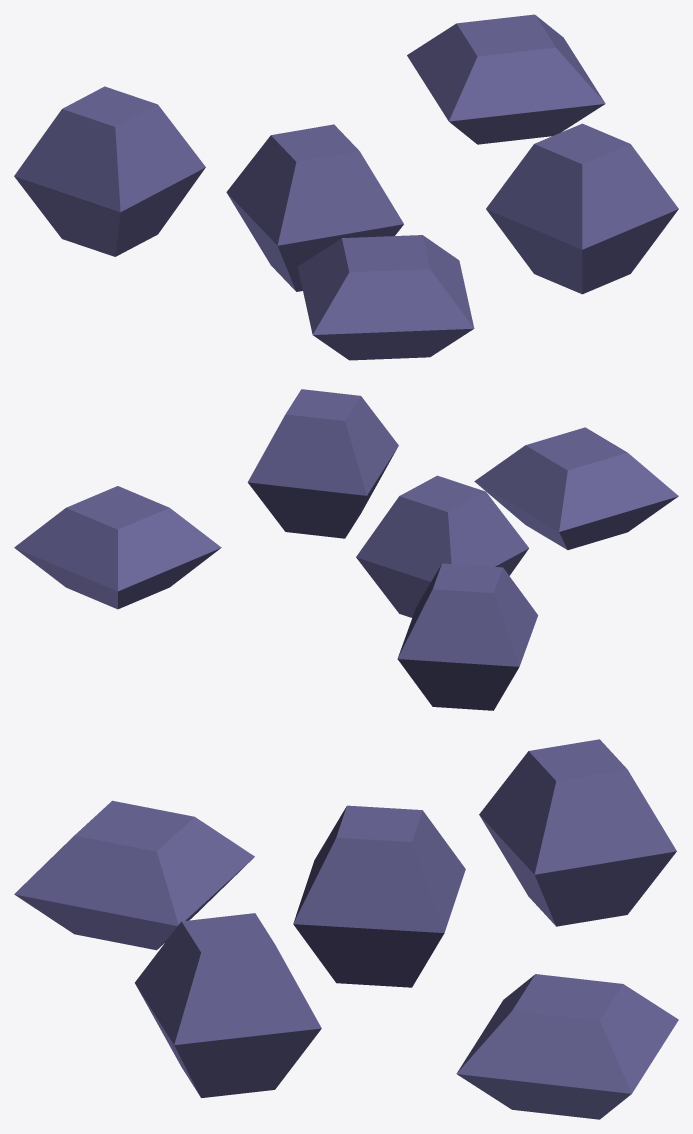
The model's file is stone-particle.obj.
3 views of the same model, one above another, from view 1: azimuth 30°, elevation 25°; view 2: azimuth 150°, elevation 25°; view 3: azimuth 270°, elevation 25° (orthographic). The views are drawn at different scales.
Parts seen in each view (by area): view 1: rocks_smallA; view 2: rocks_smallA; view 3: rocks_smallA.
Part boxes in pixels (bbox=[...]): rocks_smallA: bbox=[14, 14, 678, 360]; rocks_smallA: bbox=[14, 389, 678, 710]; rocks_smallA: bbox=[14, 739, 678, 1119].
Size of the model in its own units: 0.1874 by 0.042 by 0.174.
